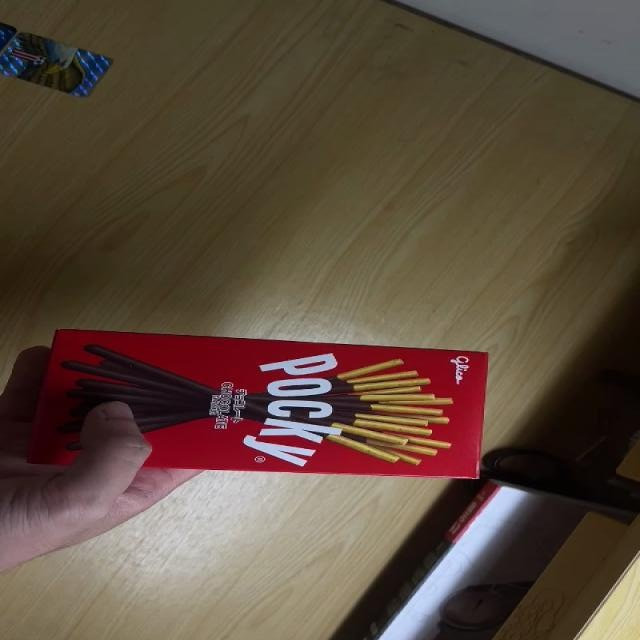Pocky: (19, 326, 492, 480)
